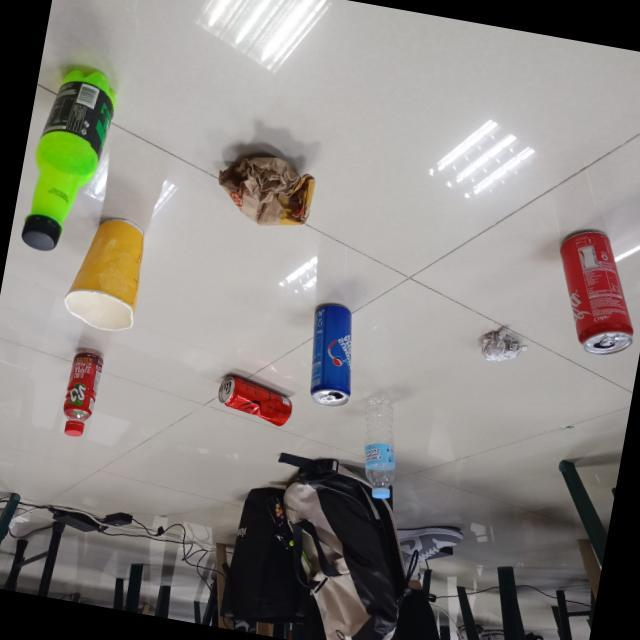recyclable waste: (12, 57, 128, 265), (537, 219, 640, 366), (55, 205, 158, 340), (202, 138, 324, 240), (293, 296, 370, 414), (343, 388, 413, 504), (207, 368, 300, 432), (54, 344, 109, 444), (471, 314, 534, 374)
